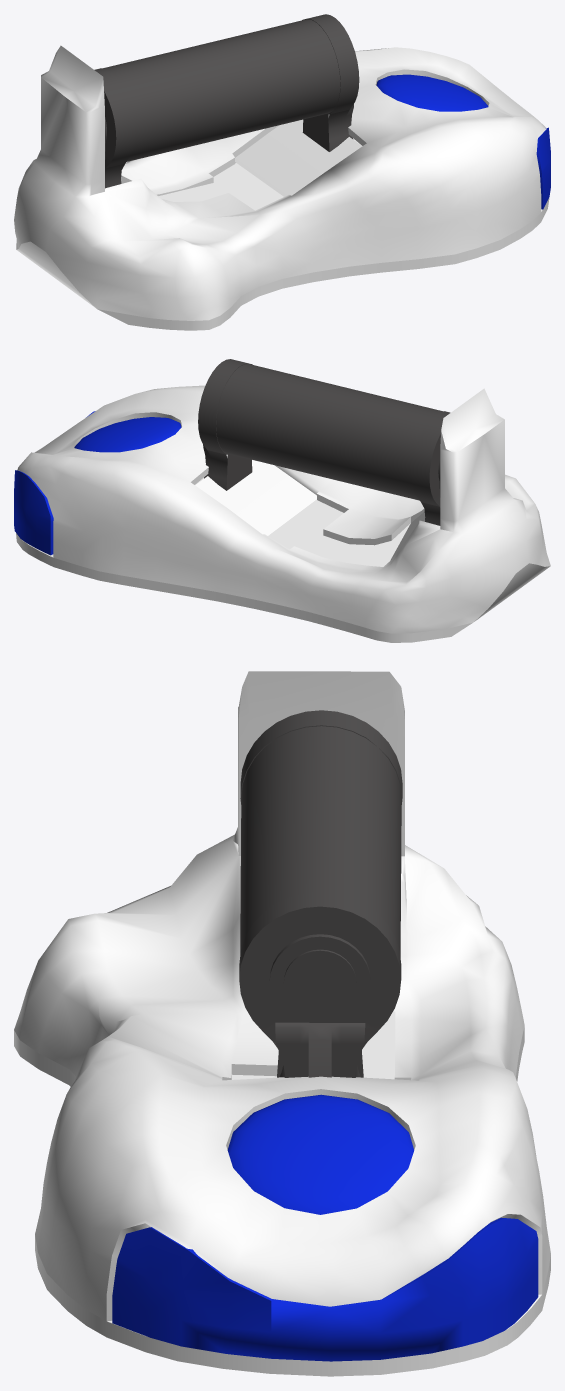
File: RAnkleRoll.dae
3 renders of one model, top to bottom at view 1: azimuth 30°, elevation 25°; view 2: azimuth 150°, elevation 25°; view 3: azimuth 270°, elevation 25°, orthographic. The views are drawn at different scales.
Visible parts, largest first — view 1: RAnkleRoll; view 2: RAnkleRoll; view 3: RAnkleRoll.
Part boxes in pixels (bbox=[...]): RAnkleRoll: bbox=[14, 14, 550, 330]; RAnkleRoll: bbox=[14, 359, 550, 642]; RAnkleRoll: bbox=[14, 671, 550, 1376].
Size of the model in its own units: 0.1603 by 0.0905 by 0.0647.
